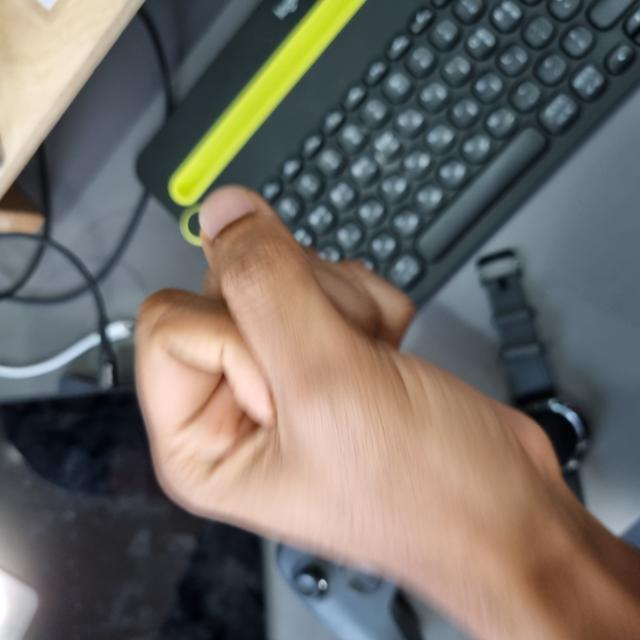Rock: (51, 133, 449, 563)
